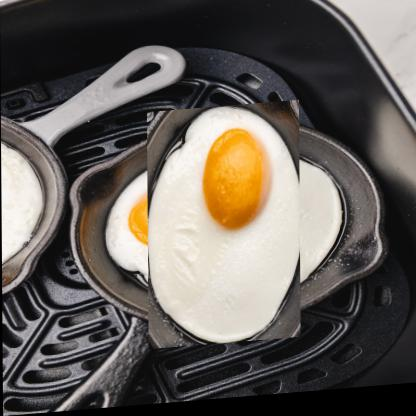egg: (125, 125, 322, 333)
